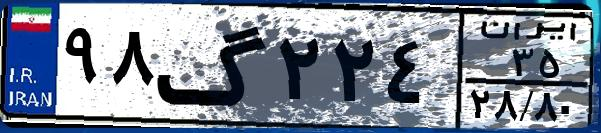0: (560, 70, 590, 125)
2: (270, 28, 330, 110), (330, 28, 385, 110), (470, 70, 495, 125)
3: (508, 27, 537, 80)
4: (385, 28, 445, 110)
5: (537, 27, 568, 80)
8: (110, 28, 156, 98), (495, 70, 520, 125), (535, 70, 560, 125)
9: (57, 26, 110, 100)
گ: (156, 12, 270, 120)
